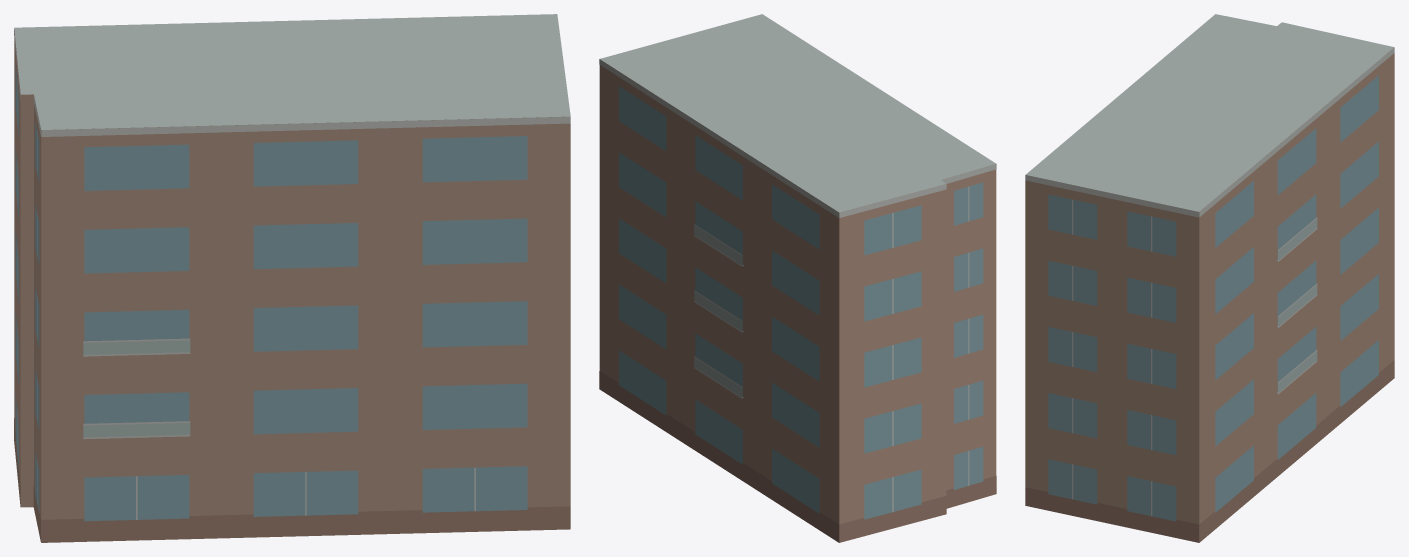
File: survey-upis-32888527.glb
3 views of the same model, side by side, from view 1: azimuth 30°, elevation 25°; view 2: azimuth 150°, elevation 25°; view 3: azimuth 270°, elevation 25° (orthographic). The views are drawn at different scales.
Parts seen in each view (by area): view 1: survey-upis-32888527.tmp; view 2: survey-upis-32888527.tmp; view 3: survey-upis-32888527.tmp.
Boxes of the visible parts, x1,y1,x2,y2 form: survey-upis-32888527.tmp: [14, 14, 570, 542]; survey-upis-32888527.tmp: [599, 14, 996, 542]; survey-upis-32888527.tmp: [1025, 14, 1394, 542].
Size of the model in its own units: 18.55 by 14.45 by 14.62.
